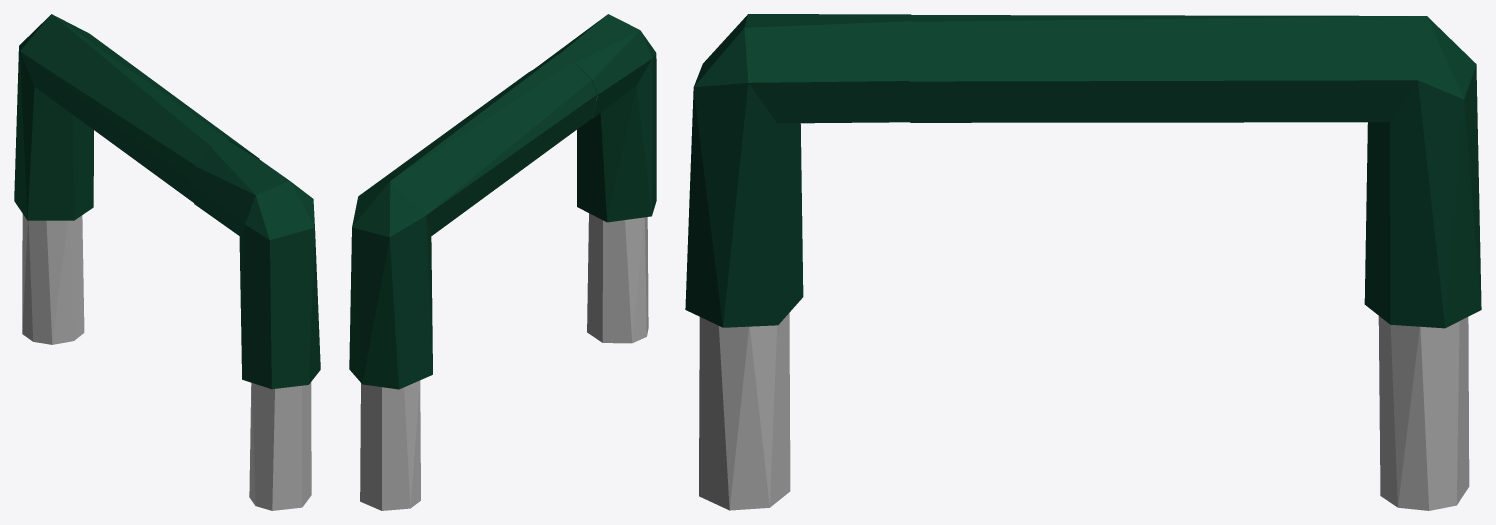
Rendered from wire1.fbx.
3 views of the same model, side by side, from view 1: azimuth 30°, elevation 25°; view 2: azimuth 150°, elevation 25°; view 3: azimuth 270°, elevation 25° (orthographic). The views are drawn at different scales.
Visible parts, largest first — view 1: Cylinder.002; view 2: Cylinder.002; view 3: Cylinder.002.
Part boxes in pixels (x1,y1,x2,y2): Cylinder.002: (14,14,320,510); Cylinder.002: (349,14,656,510); Cylinder.002: (685,14,1481,510).
Bounding box in the file's own units: 2.58 × 11.11 × 16.88.
